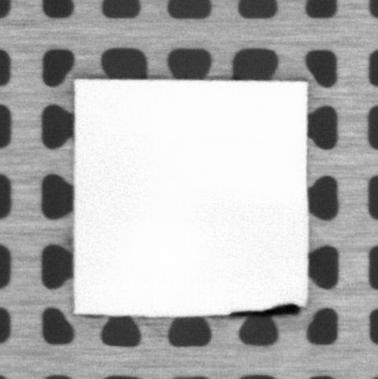DIE_BROKEN: (227, 302, 300, 317)
